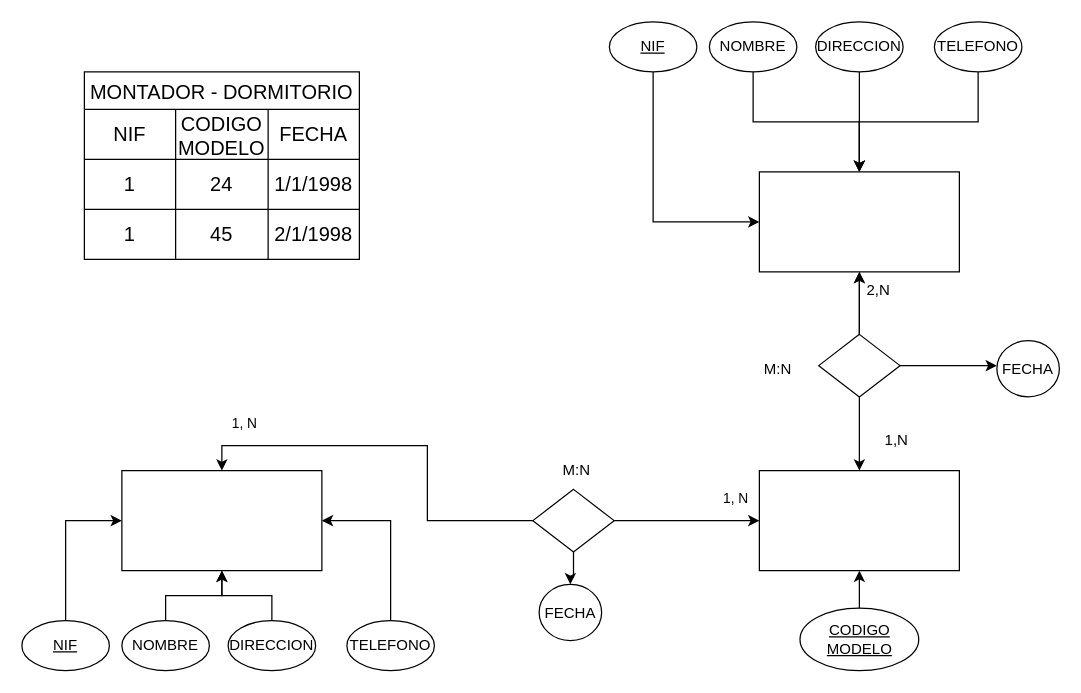
The diagram is 1081 pixels wide and 693 high, and some of its shapes have lost their labels. Each missing label, with the centre of its shape:
CLIENTE: the point at 221,520
COMPRA: the point at 573,520
MODELO DORMITORIO: the point at 858,520
MONTA: the point at 859,365
MONTADORES: the point at 858,221
